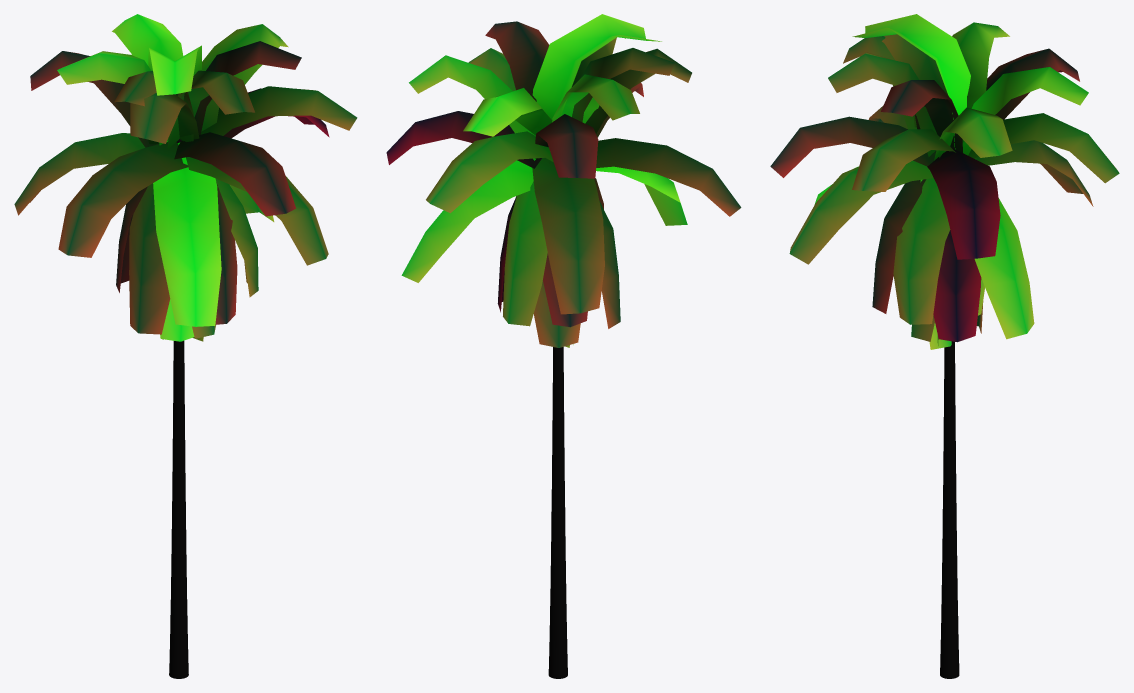
Rendered from SM_Palm6_4.fbx.
The picture shows the model from 3 angles, left to right: view 1: azimuth 30°, elevation 25°; view 2: azimuth 150°, elevation 25°; view 3: azimuth 270°, elevation 25°; orthographic projection.
Visible parts, largest first — view 1: SM_Palm6_4; view 2: SM_Palm6_4; view 3: SM_Palm6_4.
Part boxes in pixels (box(x1,y1,x2,y2)): SM_Palm6_4: box(14, 14, 357, 678); SM_Palm6_4: box(386, 14, 741, 678); SM_Palm6_4: box(770, 14, 1119, 678).
Bounding box in the file's own units: 733 × 1474 × 728.
